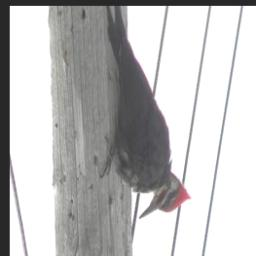Woodpecker: (98, 7, 193, 223)
